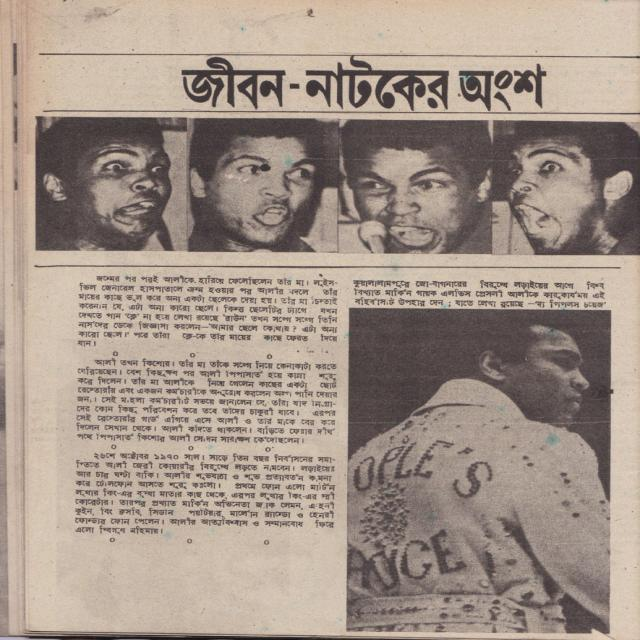caption: (351, 278, 607, 307)
image: (347, 307, 612, 634), (38, 116, 640, 257)
paragraph: (74, 355, 340, 445), (75, 451, 337, 536), (75, 273, 339, 347)
title: (181, 52, 547, 112)
